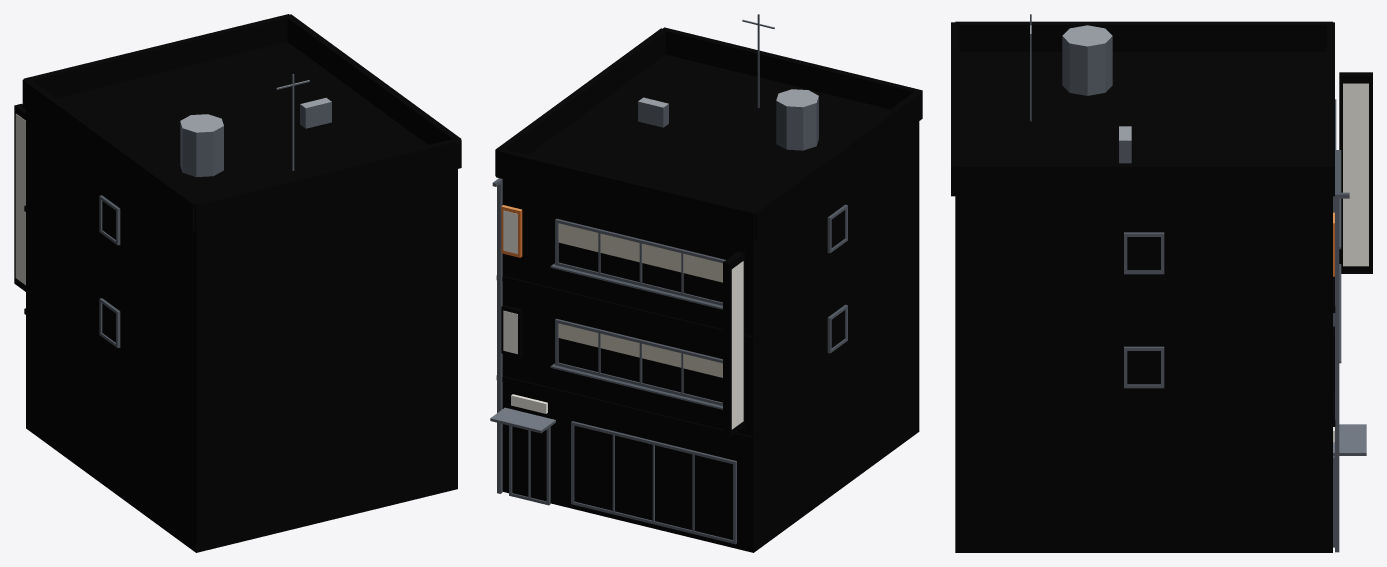
File: Zakkyo_B.fbx
The picture shows the model from 3 angles, left to right: view 1: azimuth 30°, elevation 25°; view 2: azimuth 150°, elevation 25°; view 3: azimuth 270°, elevation 25°; orthographic projection. The views are drawn at different scales.
Parts seen in each view (by area): view 1: Body.006, RoofTop.006, RoofThings.002, GlowBlade.002, WinFrame.011, Glass.011, Blade.002; view 2: Body.006, RoofTop.006, Glass.011, WinFrame.011, Curtain0.010, LitGlassDim.006, RoofThings.002, Floors.001, Blade.002, GlowBlade.002, Pipes.011, EntranceHood.001 (+4 smaller); view 3: Body.006, RoofTop.006, GlowBlade.002, RoofThings.002, WinFrame.011, Glass.011, Blade.002, Pipes.011, EntranceHood.001.
Part boxes in pixels (x1,y1,x2,y2): Body.006: (26,110,457,552); RoofTop.006: (22,14,461,232); RoofThings.002: (180,74,331,177); GlowBlade.002: (15,114,25,285); WinFrame.011: (99,195,120,348); Glass.011: (102,201,115,342); Blade.002: (14,103,25,291); Body.006: (502,121,919,552); RoofTop.006: (495,27,922,240); Glass.011: (558,210,844,539); WinFrame.011: (509,204,847,544); Curtain0.010: (558,223,722,377); LitGlassDim.006: (512,242,722,501); RoofThings.002: (638,14,818,150); Floors.001: (496,275,754,442); Blade.002: (723,251,744,437); GlowBlade.002: (731,261,743,429); Pipes.011: (492,178,502,493); EntranceHood.001: (490,407,555,433); Body.006: (955,197,1332,552); RoofTop.006: (951,21,1334,197); GlowBlade.002: (1343,83,1368,266); RoofThings.002: (1030,14,1131,163); WinFrame.011: (1124,99,1341,547); Glass.011: (1127,237,1160,384); Blade.002: (1339,72,1372,273); Pipes.011: (1335,192,1349,552); EntranceHood.001: (1333,424,1366,455).
Size of the model in its own units: 8.2 by 12.33 by 10.05.
